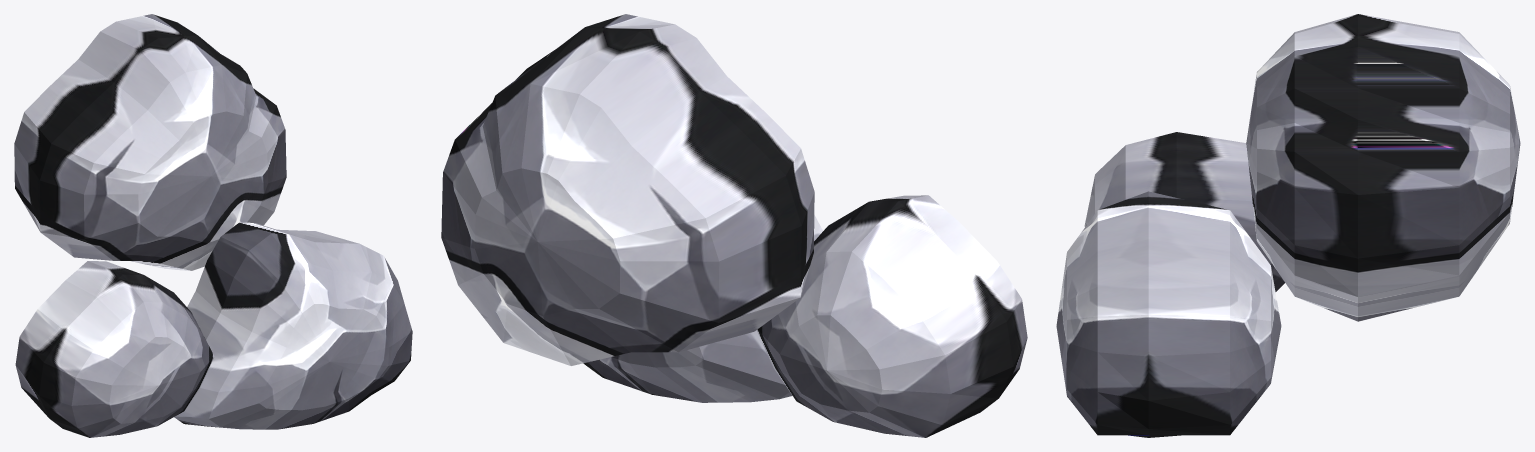
File: item-rock.glb
The picture shows the model from 3 angles, left to right: view 1: azimuth 30°, elevation 25°; view 2: azimuth 150°, elevation 25°; view 3: azimuth 270°, elevation 25°; orthographic projection. The views are drawn at different scales.
Visible parts, largest first — view 1: traced mineral chunk 1, traced mineral chunk 3, traced mineral chunk 2; view 2: traced mineral chunk 1, traced mineral chunk 2, traced mineral chunk 3; view 3: traced mineral chunk 1, traced mineral chunk 3, traced mineral chunk 2.
Part boxes in pixels (box(x1,y1,x2,y2)): traced mineral chunk 1: box(14, 14, 286, 270); traced mineral chunk 3: box(174, 222, 412, 429); traced mineral chunk 2: box(15, 261, 214, 437); traced mineral chunk 1: box(441, 14, 814, 365); traced mineral chunk 2: box(756, 195, 1027, 437); traced mineral chunk 3: box(583, 215, 822, 402); traced mineral chunk 1: box(1246, 14, 1520, 321); traced mineral chunk 3: box(1056, 191, 1281, 437); traced mineral chunk 2: box(1084, 132, 1284, 291).
Bounding box in the file's own units: 0.6862 × 0.6017 × 0.66.
Materials: 1 (1 with a texture image).
